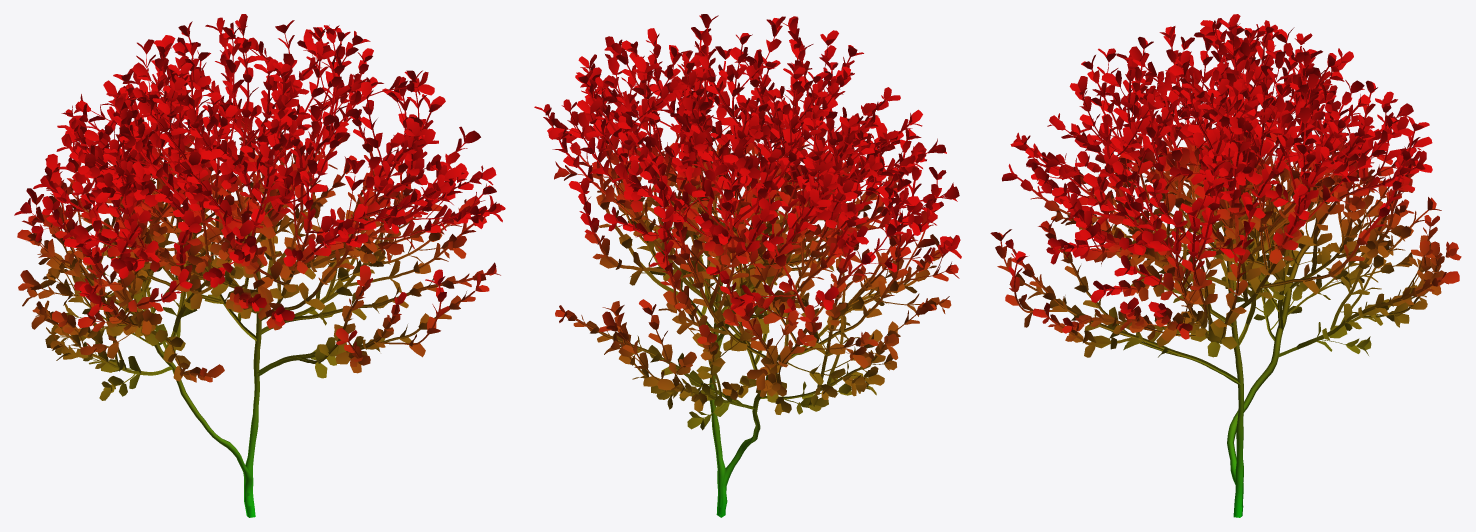
File: Var2_LOD2.fbx
3 renders of one model, left to right at view 1: azimuth 30°, elevation 25°; view 2: azimuth 150°, elevation 25°; view 3: azimuth 270°, elevation 25°, orthographic.
Visible parts, largest first — view 1: _hhtu_Var2_LOD2; view 2: _hhtu_Var2_LOD2; view 3: _hhtu_Var2_LOD2.
Boxes of the visible parts, bbox=[...] form: _hhtu_Var2_LOD2: bbox=[14, 14, 505, 517]; _hhtu_Var2_LOD2: bbox=[534, 14, 961, 517]; _hhtu_Var2_LOD2: bbox=[990, 14, 1461, 517].
Bounding box in the file's own units: 69.83 × 78.22 × 70.34.
